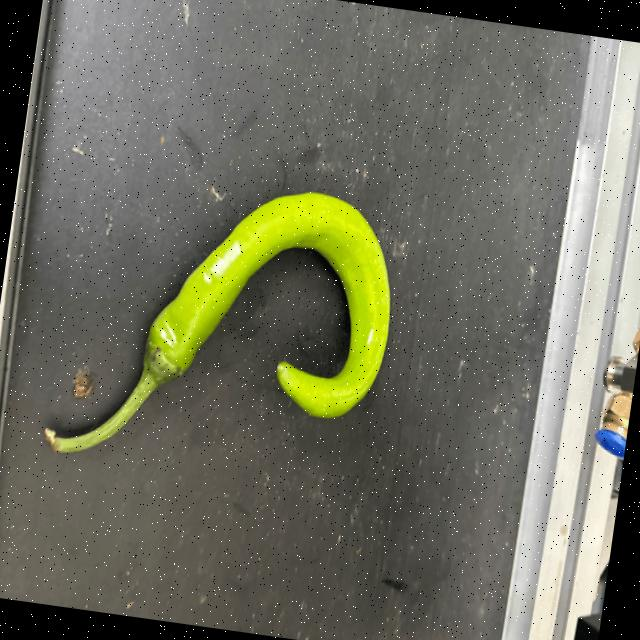chili: (142, 191, 392, 421)
